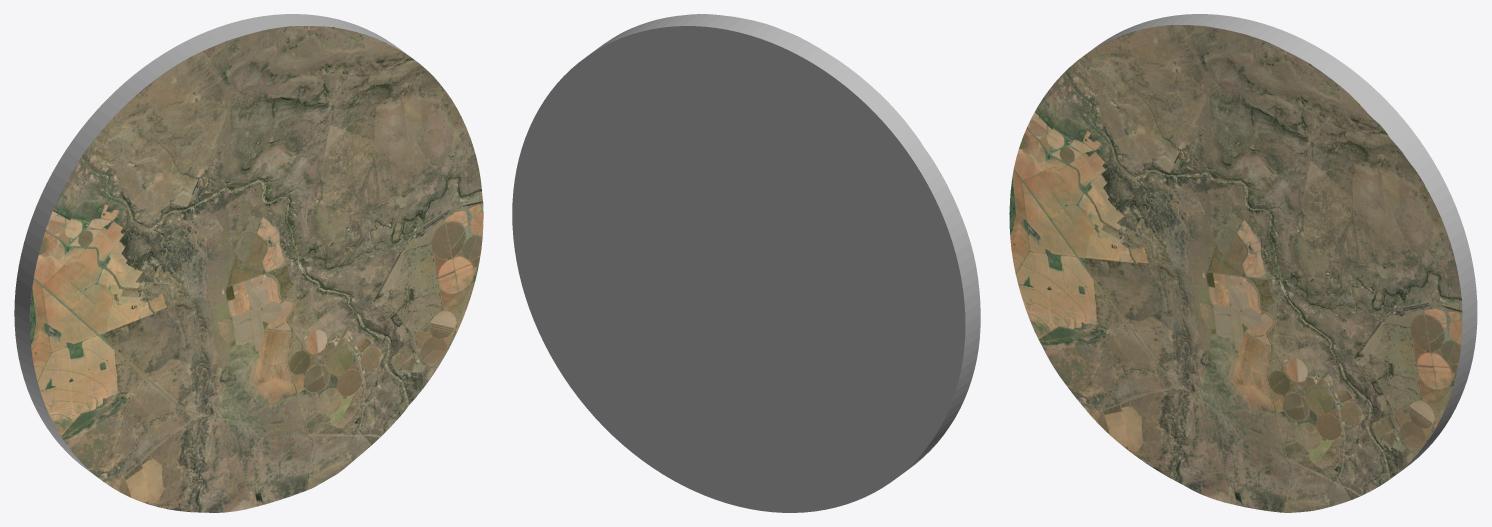
Rendered from bloemfontein_kroonstad.glb.
The picture shows the model from 3 angles, left to right: view 1: azimuth 30°, elevation 25°; view 2: azimuth 150°, elevation 25°; view 3: azimuth 330°, elevation 25°; orthographic projection.
Bounding box in the file's own units: 200 × 200 × 13.96.
Materials: 2 (1 with a texture image).
